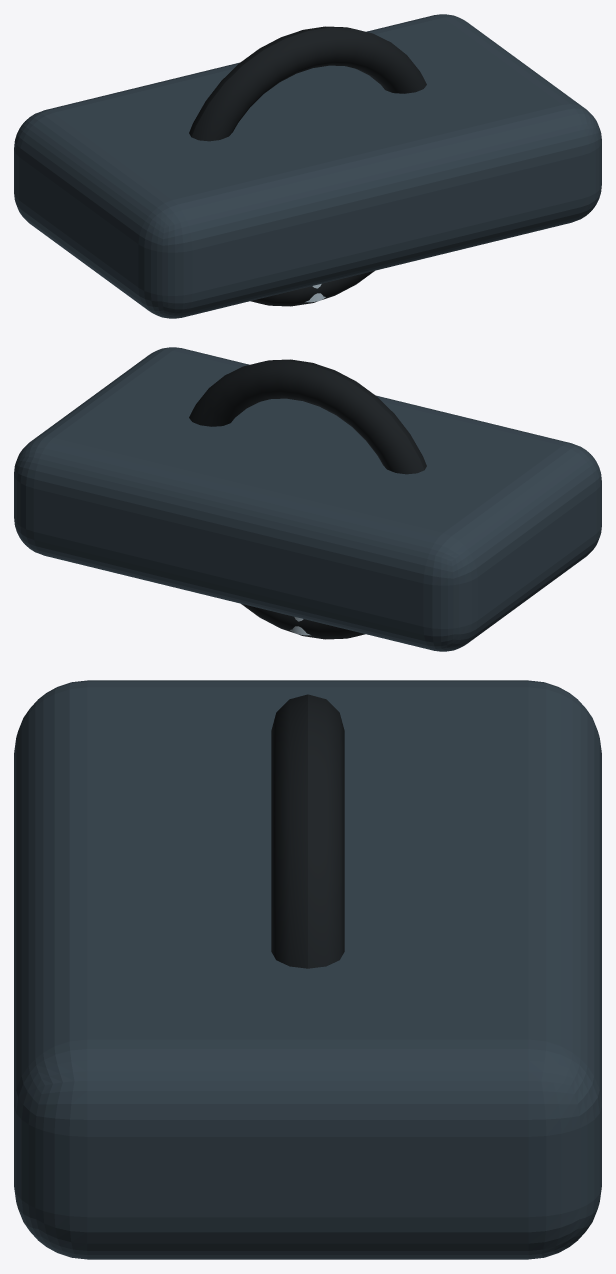
File: body_11.glb
3 renders of one model, top to bottom at view 1: azimuth 30°, elevation 25°; view 2: azimuth 150°, elevation 25°; view 3: azimuth 270°, elevation 25°, orthographic. The views are drawn at different scales.
Parts seen in each view (by area): view 1: asset_mesh__body_0566__reference_body, asset_mesh__body_0582__service_element; view 2: asset_mesh__body_0566__reference_body, asset_mesh__body_0582__service_element; view 3: asset_mesh__body_0566__reference_body, asset_mesh__body_0582__service_element.
Part boxes in pixels (box(x1,y1,x2,y2)): asset_mesh__body_0566__reference_body: box(14, 14, 601, 318); asset_mesh__body_0582__service_element: box(189, 26, 426, 306); asset_mesh__body_0566__reference_body: box(14, 347, 601, 651); asset_mesh__body_0582__service_element: box(189, 359, 426, 639); asset_mesh__body_0566__reference_body: box(14, 680, 601, 1259); asset_mesh__body_0582__service_element: box(271, 694, 344, 968).
Size of the model in its own units: 1.47 by 0.83 by 0.882.
